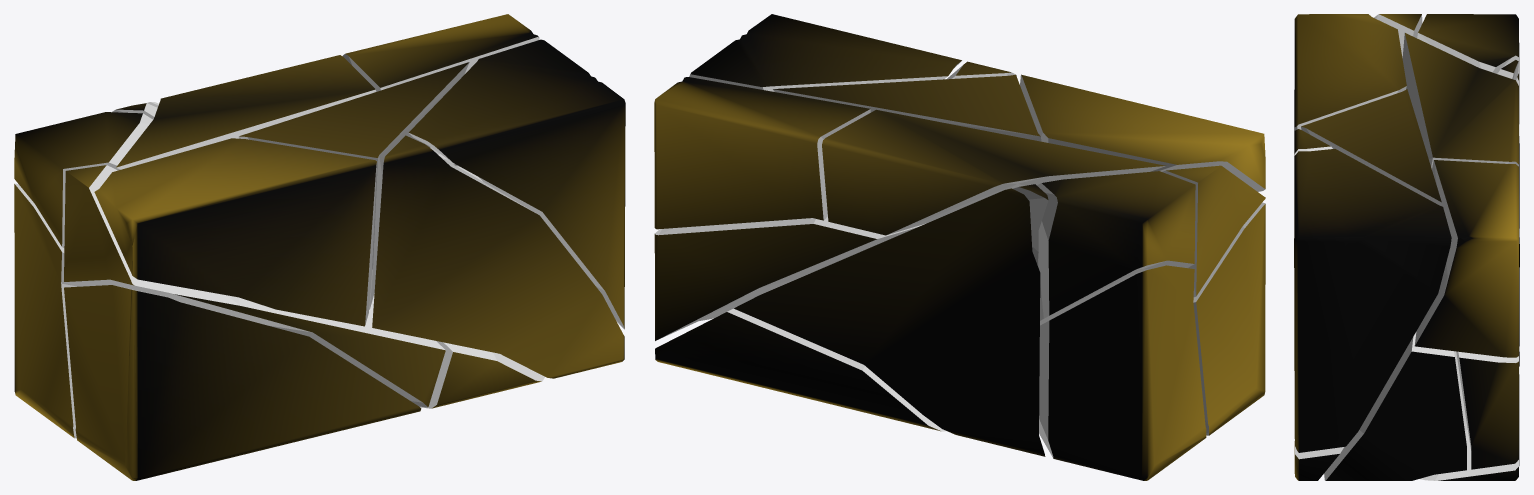
File: Container.glb
The picture shows the model from 3 angles, left to right: view 1: azimuth 30°, elevation 25°; view 2: azimuth 150°, elevation 25°; view 3: azimuth 270°, elevation 25°; orthographic projection. The views are drawn at different scales.
Visible parts, largest first — view 1: Root, Root.001, Root.013, Root.005, Root.008, Root.011, Root.004, Root.009, Root.012, Root.003, Root.010; view 2: Root.006, Root.004, Root.003, Root.011, Root.012, Root.007, Root.001, Root.002, Root.005, Root, Root.009, Root.008 (+2 smaller); view 3: Root.005, Root.003, Root.015, Root.011, Root.001, Root.009, Root.007, Root.012, Root.013, Root.002, Root.008, Root (+2 smaller).
Boxes of the visible parts, bbox=[...] form: Root: bbox=[64, 285, 421, 480]; Root.001: bbox=[94, 138, 376, 326]; Root.013: bbox=[372, 135, 624, 378]; Root.005: bbox=[409, 39, 625, 329]; Root.008: bbox=[64, 165, 445, 407]; Root.011: bbox=[116, 55, 376, 169]; Root.004: bbox=[14, 183, 76, 438]; Root.009: bbox=[238, 62, 469, 309]; Root.012: bbox=[14, 112, 152, 247]; Root.003: bbox=[342, 14, 539, 159]; Root.010: bbox=[419, 341, 544, 408]; Root.006: bbox=[734, 188, 1045, 456]; Root.004: bbox=[1039, 265, 1206, 480]; Root.003: bbox=[654, 77, 870, 229]; Root.011: bbox=[822, 109, 1165, 235]; Root.012: bbox=[1037, 171, 1195, 325]; Root.007: bbox=[654, 216, 925, 340]; Root.001: bbox=[1020, 74, 1265, 191]; Root.002: bbox=[655, 308, 946, 431]; Root.005: bbox=[689, 14, 961, 91]; Root: bbox=[1193, 202, 1265, 435]; Root.009: bbox=[773, 74, 1041, 141]; Root.008: bbox=[1162, 165, 1265, 297]; Root.005: bbox=[1294, 149, 1451, 452]; Root.003: bbox=[1414, 160, 1518, 357]; Root.015: bbox=[1324, 332, 1466, 480]; Root.011: bbox=[1402, 33, 1518, 169]; Root.001: bbox=[1294, 14, 1406, 130]; Root.009: bbox=[1301, 89, 1441, 205]; Root.007: bbox=[1456, 351, 1518, 469]; Root.012: bbox=[1417, 14, 1519, 135]; Root.013: bbox=[1294, 129, 1343, 480]; Root.002: bbox=[1420, 351, 1519, 480]; Root.008: bbox=[1374, 14, 1422, 57]; Root: bbox=[1294, 90, 1294, 370].
Bounding box in the file's own units: 3.49 × 1.77 × 1.48.
